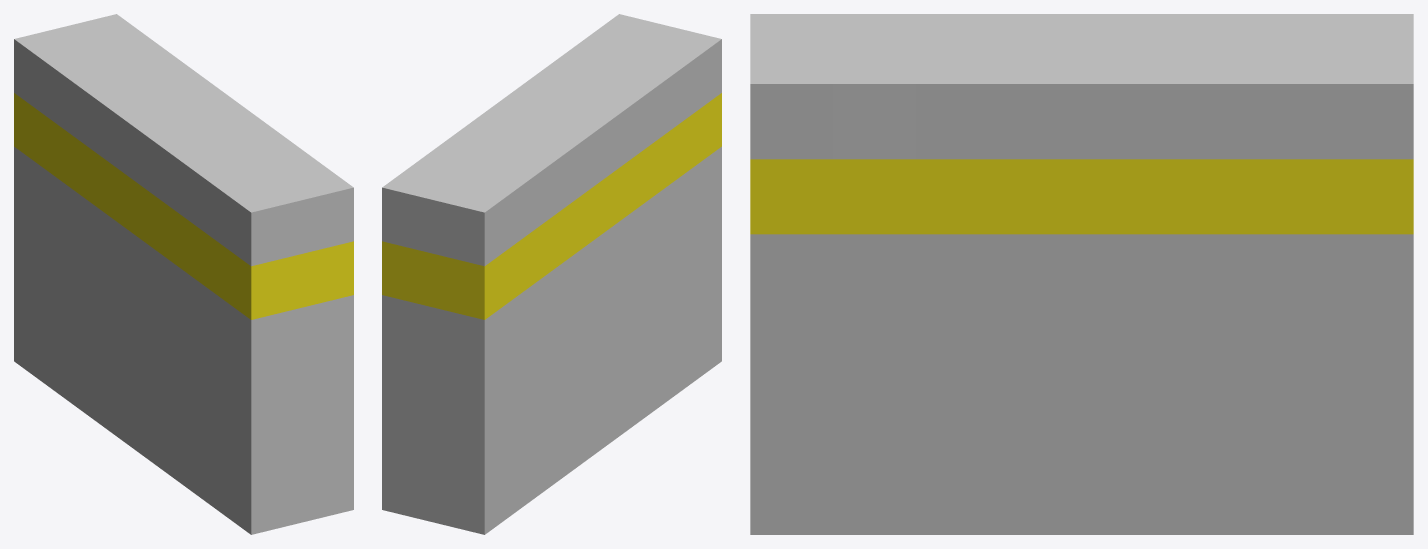
The model's file is sidebar.obj.
The picture shows the model from 3 angles, left to right: view 1: azimuth 30°, elevation 25°; view 2: azimuth 150°, elevation 25°; view 3: azimuth 270°, elevation 25°; orthographic projection. The views are drawn at different scales.
Bounding box in the file's own units: 2 × 6 × 8.
